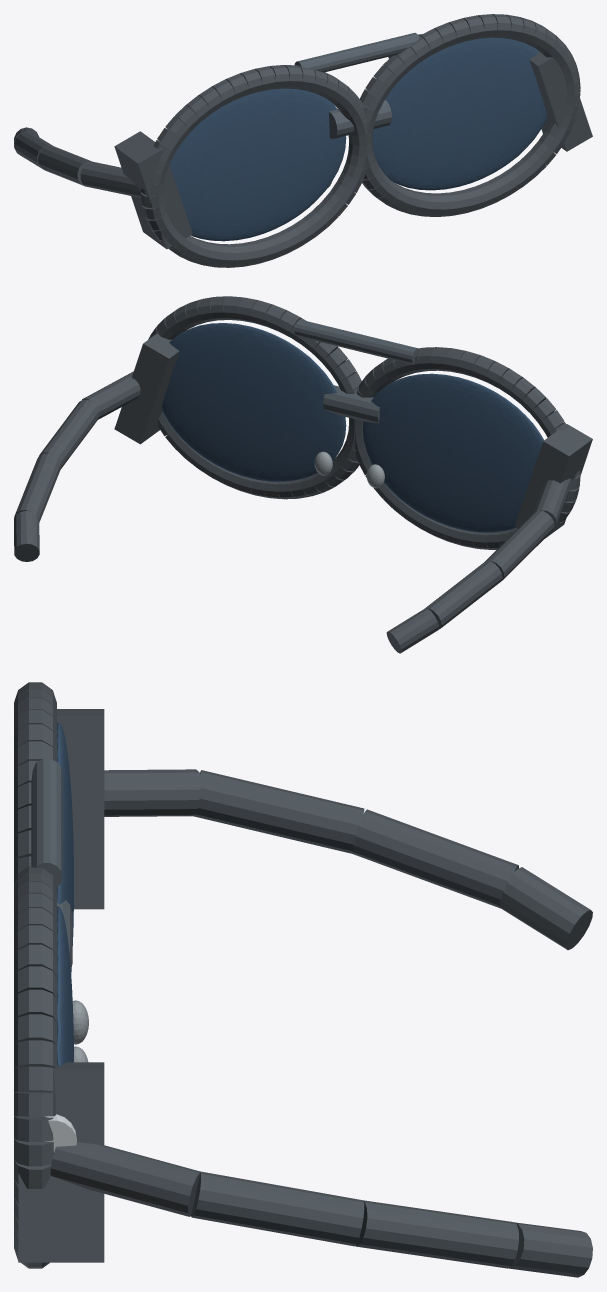
File: everest_glacier.glb
3 renders of one model, top to bottom at view 1: azimuth 30°, elevation 25°; view 2: azimuth 150°, elevation 25°; view 3: azimuth 270°, elevation 25°, orthographic. The views are drawn at different scales.
Parts seen in each view (by area): view 1: right_category4_dark_lens, left_category4_dark_lens, left_thick_glacier_rim, right_thick_glacier_rim, left_side_shield, right_side_shield, brow_bar, left_temple_arm_0, left_temple_arm_1, bridge, left_temple_arm_2; view 2: right_category4_dark_lens, left_category4_dark_lens, right_thick_glacier_rim, left_thick_glacier_rim, right_side_shield, left_side_shield, brow_bar, left_temple_arm_2, left_temple_arm_1, right_temple_arm_1, right_temple_arm_2, left_temple_arm_3 (+4 smaller); view 3: right_thick_glacier_rim, right_side_shield, right_temple_arm_1, left_temple_arm_1, left_temple_arm_2, right_temple_arm_2, left_side_shield, right_temple_arm_0, left_thick_glacier_rim, left_temple_arm_0, left_temple_arm_3, brow_bar (+3 smaller).
Boxes of the visible parts, x1,y1,x2,y2 form: right_category4_dark_lens: (372, 37, 547, 190); left_category4_dark_lens: (169, 88, 346, 241); left_thick_glacier_rim: (141, 65, 366, 267); right_thick_glacier_rim: (360, 14, 580, 216); left_side_shield: (114, 131, 192, 249); right_side_shield: (529, 51, 592, 151); brow_bar: (294, 32, 419, 72); left_temple_arm_0: (80, 161, 141, 197); left_temple_arm_1: (37, 146, 92, 186); bridge: (329, 99, 391, 138); left_temple_arm_2: (14, 132, 52, 167); right_category4_dark_lens: (161, 323, 346, 481); left_category4_dark_lens: (362, 373, 543, 532); right_thick_glacier_rim: (148, 296, 361, 499); left_thick_glacier_rim: (355, 347, 580, 549); right_side_shield: (114, 333, 179, 444); left_side_shield: (514, 424, 592, 538); brow_bar: (294, 319, 419, 364); left_temple_arm_2: (426, 560, 502, 628); left_temple_arm_1: (485, 510, 554, 580); right_temple_arm_1: (39, 399, 99, 468); right_temple_arm_2: (14, 453, 61, 522); left_temple_arm_3: (386, 608, 439, 653); right_thick_glacier_rim: (14, 866, 56, 1268); right_side_shield: (18, 1062, 104, 1262); right_temple_arm_1: (191, 1171, 364, 1246); left_temple_arm_1: (193, 770, 364, 853); left_temple_arm_2: (351, 809, 518, 908); right_temple_arm_2: (355, 1200, 518, 1268); left_side_shield: (57, 709, 104, 909); right_temple_arm_0: (50, 1142, 200, 1216); left_thick_glacier_rim: (14, 682, 56, 885); left_temple_arm_0: (104, 769, 202, 816); left_temple_arm_3: (499, 867, 592, 949); brow_bar: (31, 759, 62, 887).
Size of the model in its own units: 3.48 by 1.34 by 2.02.
